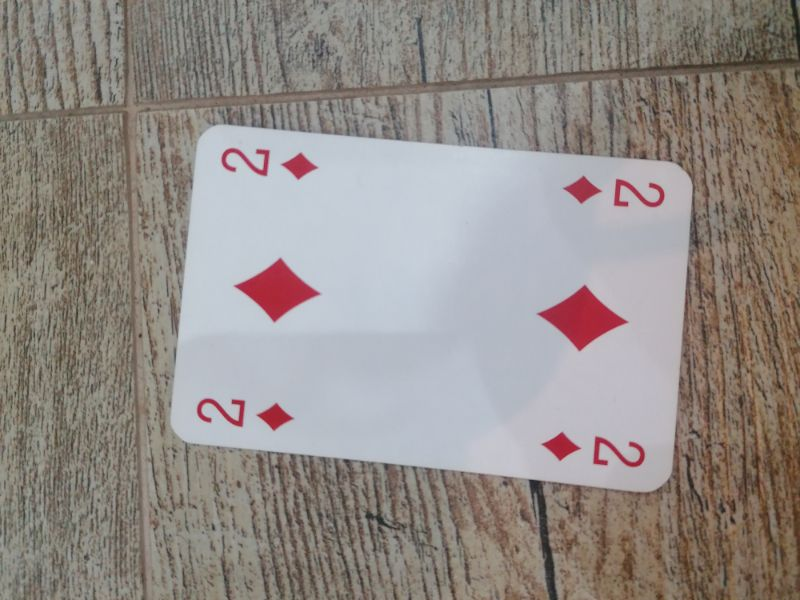2d: (217, 139, 325, 188), (559, 169, 670, 216), (540, 427, 650, 474), (192, 391, 299, 436)
